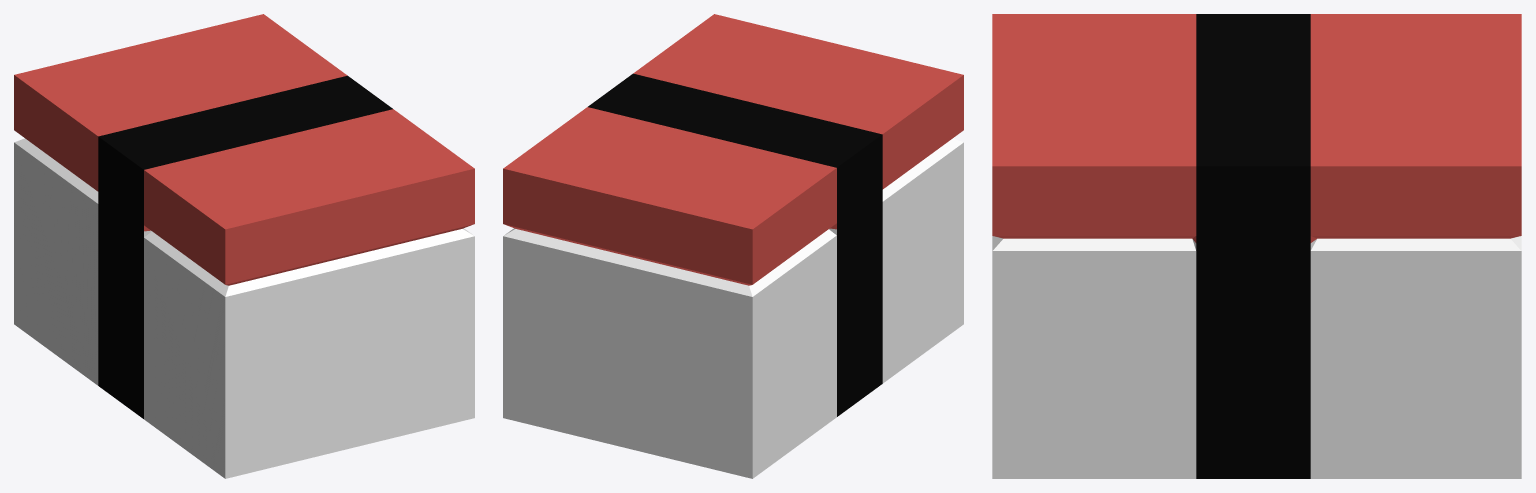
File: sashimi_01.fbx
3 views of the same model, side by side, from view 1: azimuth 30°, elevation 25°; view 2: azimuth 150°, elevation 25°; view 3: azimuth 270°, elevation 25° (orthographic). The views are drawn at different scales.
Parts seen in each view (by area): view 1: sashimi_01; view 2: sashimi_01; view 3: sashimi_01.
Part boxes in pixels (left/top/right/bottom): sashimi_01: left=14, top=14, right=474, bottom=478; sashimi_01: left=503, top=14, right=963, bottom=478; sashimi_01: left=992, top=14, right=1521, bottom=478.
Bounding box in the file's own units: 172 × 164 × 252.
1 material, 1 textured.
